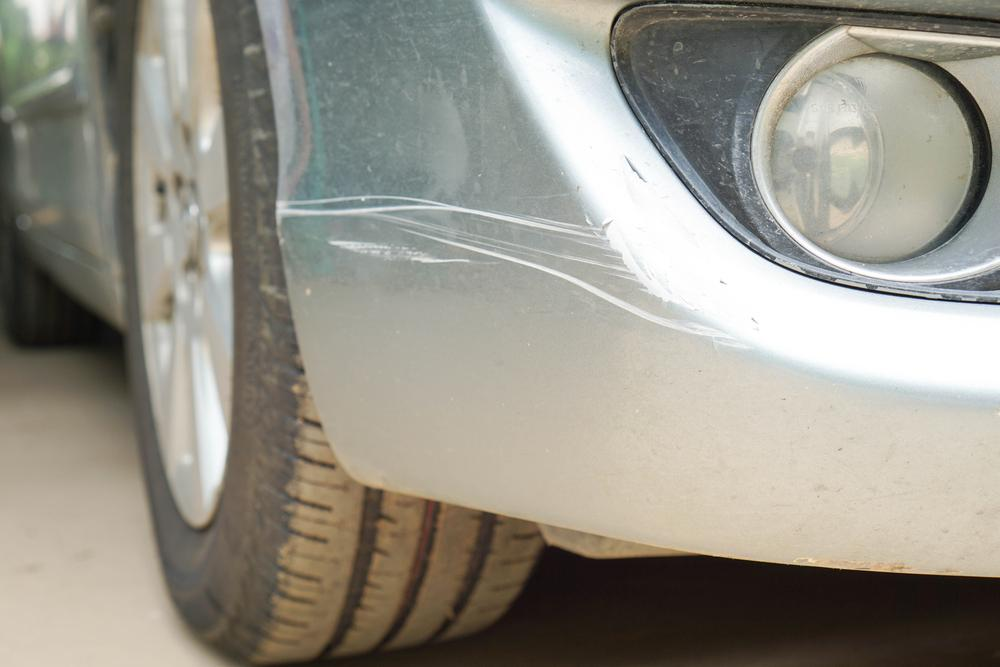scratch: (279, 188, 758, 352)
